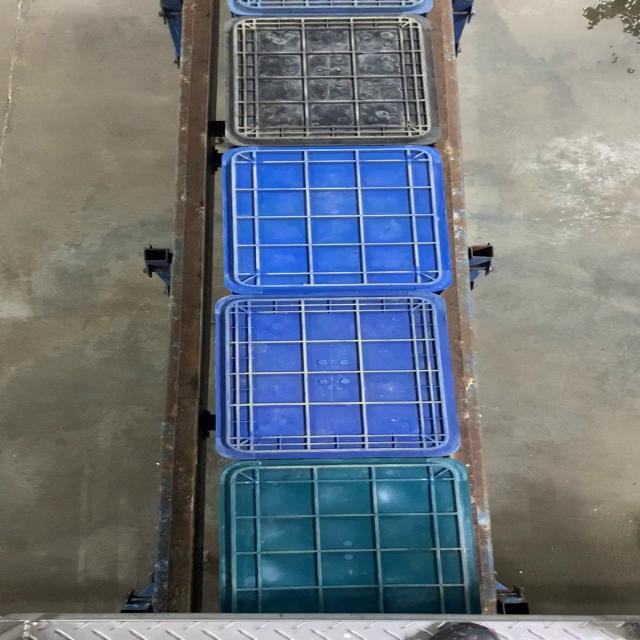Box: (216, 294, 461, 462), (221, 147, 455, 293), (226, 16, 445, 146)
